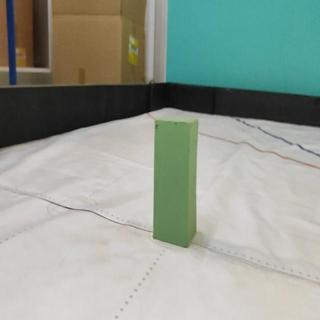greenbox: (153, 115, 199, 249)
